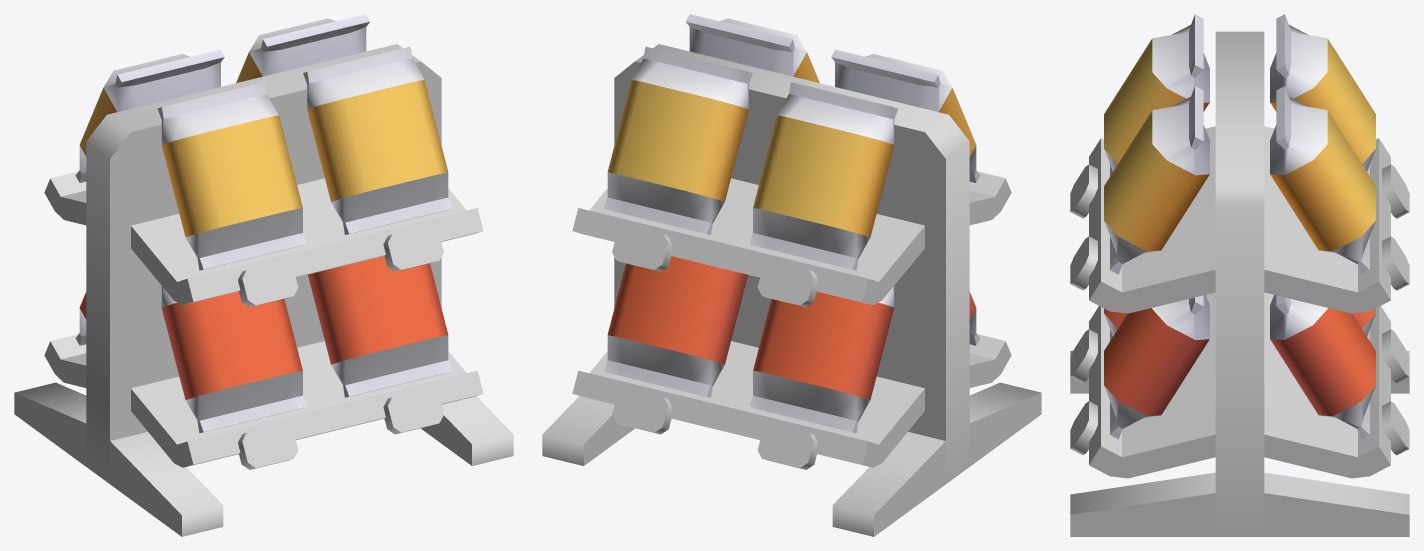
Rendered from shelf-bags-finished.glb.
3 views of the same model, side by side, from view 1: azimuth 30°, elevation 25°; view 2: azimuth 150°, elevation 25°; view 3: azimuth 270°, elevation 25° (orthographic).
Visible parts, largest first — view 1: shelf-bags, bag.001, bag, bag.003, bag.002, bag.004, bag.005; view 2: shelf-bags, bag.004, bag.005, bag.006, bag.007, bag.001, bag; view 3: shelf-bags, bag, bag.005, bag.002, bag.007, bag.001, bag.004.
Boxes of the visible parts, <box> form: shelf-bags: <box>14,44,513,536</box>; bag.001: <box>157,82,306,270</box>; bag: <box>303,46,452,234</box>; bag.003: <box>161,286,306,433</box>; bag.002: <box>308,256,451,397</box>; bag.004: <box>75,49,224,182</box>; bag.005: <box>236,14,370,82</box>; shelf-bags: <box>542,44,1041,536</box>; bag.004: <box>749,82,898,270</box>; bag.005: <box>603,46,752,234</box>; bag.006: <box>749,286,894,433</box>; bag.007: <box>604,256,747,397</box>; bag.001: <box>831,49,980,182</box>; bag: <box>685,14,819,82</box>; shelf-bags: <box>1070,31,1409,536</box>; bag: <box>1104,86,1209,274</box>; bag.005: <box>1270,86,1375,274</box>; bag.002: <box>1104,295,1209,439</box>; bag.007: <box>1270,295,1375,439</box>; bag.001: <box>1104,14,1209,175</box>; bag.004: <box>1270,14,1375,175</box>.
Bounding box in the file's own units: 0.8 × 0.8634 × 0.7.
2 materials, 1 textured.
